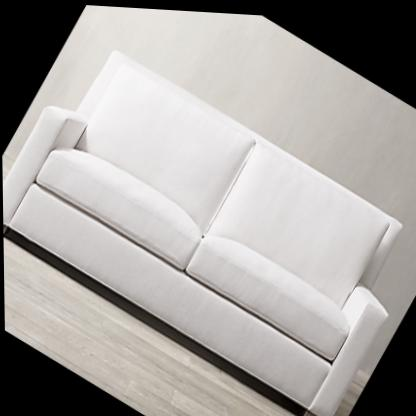Sofa: (0, 25, 416, 416)
Wooden floor: (3, 237, 300, 416)
